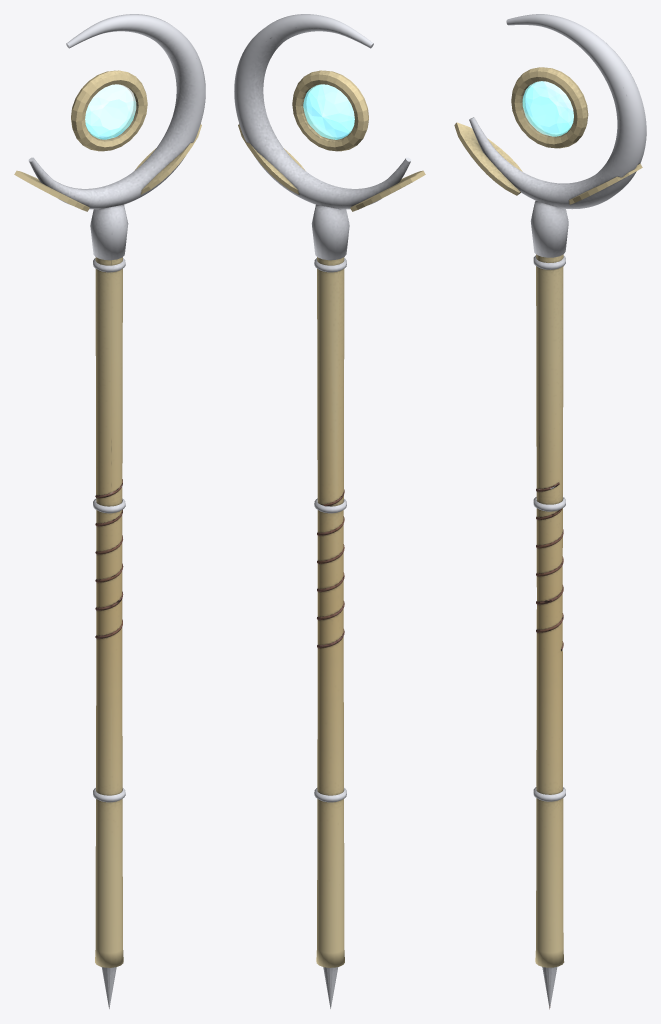
Rendered from arma_lend_cajado_sagrado.glb.
3 renders of one model, left to right at view 1: azimuth 30°, elevation 25°; view 2: azimuth 150°, elevation 25°; view 3: azimuth 330°, elevation 25°, orthographic.
Parts seen in each view (by area): view 1: arma_lend_cajado_sagrado, gema_lua; view 2: arma_lend_cajado_sagrado, gema_lua; view 3: arma_lend_cajado_sagrado, gema_lua.
Part boxes in pixels (x1,y1,x2,y2): arma_lend_cajado_sagrado: (14,14,205,1008); gema_lua: (85,84,136,139); arma_lend_cajado_sagrado: (234,14,425,1008); gema_lua: (303,84,354,139); arma_lend_cajado_sagrado: (454,14,646,1009); gema_lua: (522,81,573,136).
Bounding box in the file's own units: 0.4113 × 2.06 × 0.077.
Materials: 2 (1 with a texture image).
